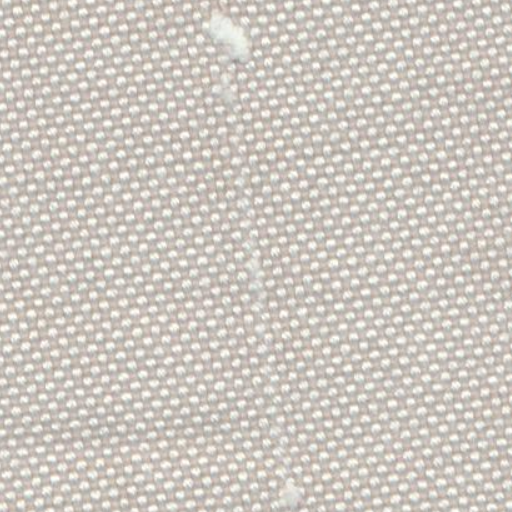MianQiu: (188, 10, 266, 70)
